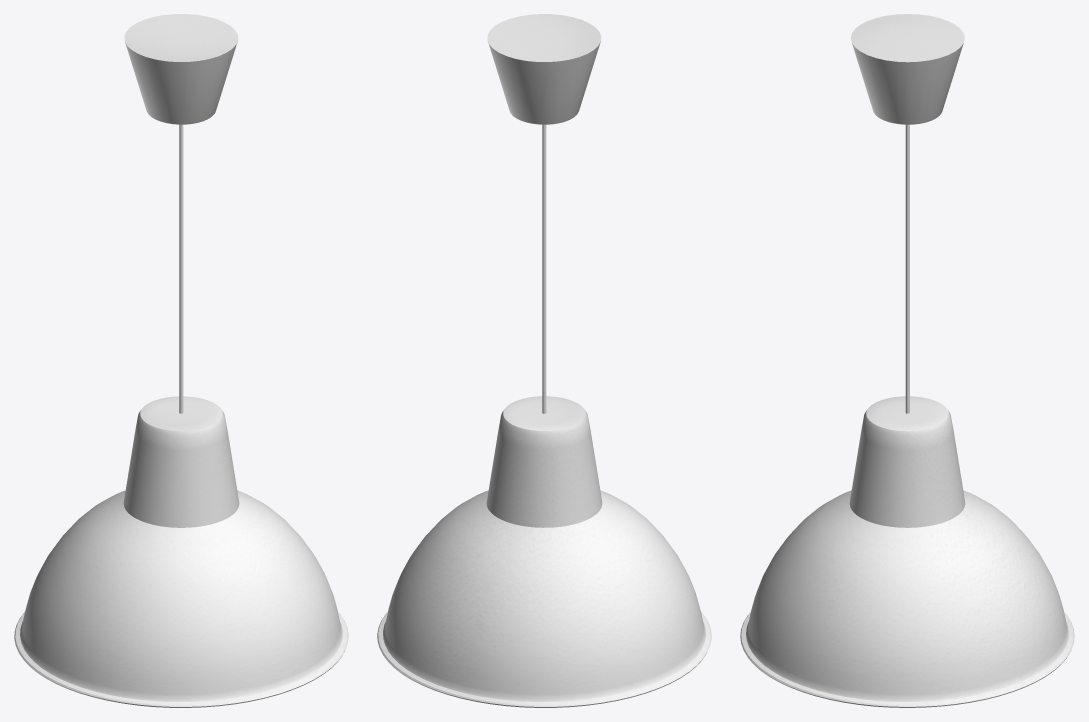
File: lamp.obj
3 views of the same model, side by side, from view 1: azimuth 30°, elevation 25°; view 2: azimuth 150°, elevation 25°; view 3: azimuth 270°, elevation 25° (orthographic).
Visible parts, largest first — view 1: Cylinder.001; view 2: Cylinder.001; view 3: Cylinder.001.
Boxes of the visible parts, <box> form: Cylinder.001: <box>14,14,348,707</box>; Cylinder.001: <box>377,14,711,707</box>; Cylinder.001: <box>740,14,1074,707</box>.
Bounding box in the file's own units: 0.3808 × 0.7537 × 0.3808.
